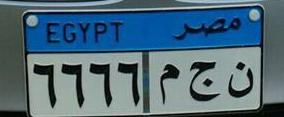6: (115, 57, 143, 113), (31, 60, 58, 109), (87, 60, 113, 110), (58, 61, 85, 108)
jeem: (185, 58, 221, 105)
meem: (157, 58, 181, 106)
noon: (225, 58, 255, 103)
